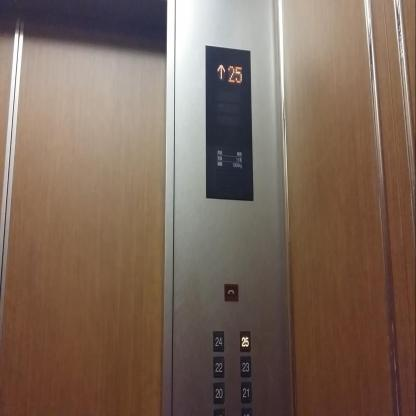20: (213, 381, 225, 404)
21: (240, 380, 252, 404)
22: (212, 355, 225, 378)
23: (239, 355, 252, 378)
24: (212, 329, 225, 353)
25: (239, 330, 251, 352)
call: (224, 282, 238, 302)
led: (204, 40, 255, 206)
